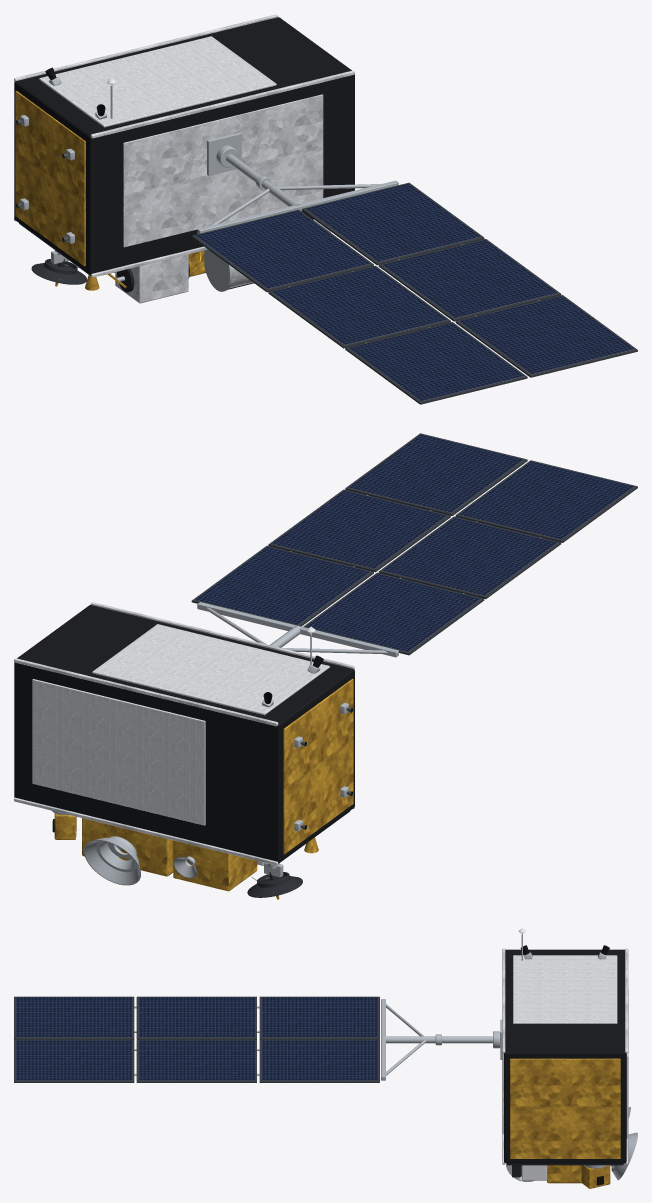
The model's file is weather.glb.
3 views of the same model, one above another, from view 1: azimuth 30°, elevation 25°; view 2: azimuth 150°, elevation 25°; view 3: azimuth 270°, elevation 25° (orthographic). The views are drawn at different scales.
Visible parts, largest first — view 1: weather_body, solar_1; view 2: weather_body, solar_1; view 3: solar_1, weather_body.
Part boxes in pixels (x1=…): weather_body: x1=14, y1=14, x2=354, y2=303; solar_1: x1=191, y1=145, x2=637, y2=404; weather_body: x1=14, y1=602, x2=354, y2=899; solar_1: x1=191, y1=433, x2=637, y2=657; solar_1: x1=14, y1=996, x2=500, y2=1082; weather_body: x1=500, y1=928, x2=637, y2=1188.
Size of the model in its own units: 4.2 by 3.55 by 10.16.
Materials: 15 (5 with a texture image).
